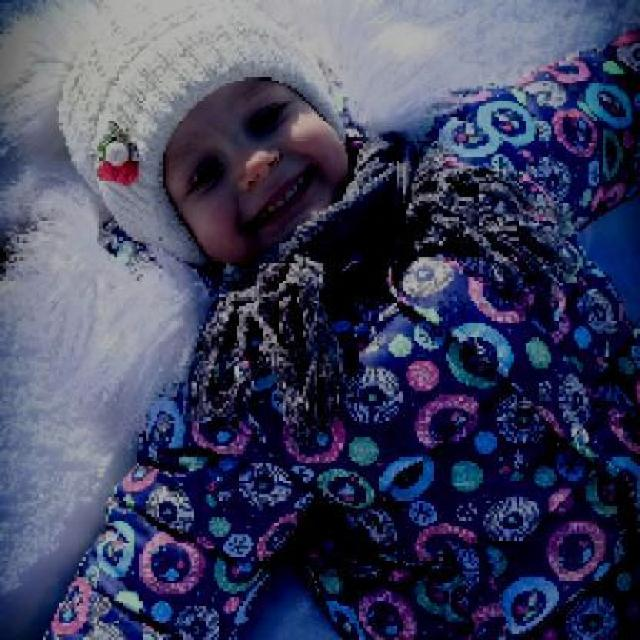child: (40, 0, 640, 637)
